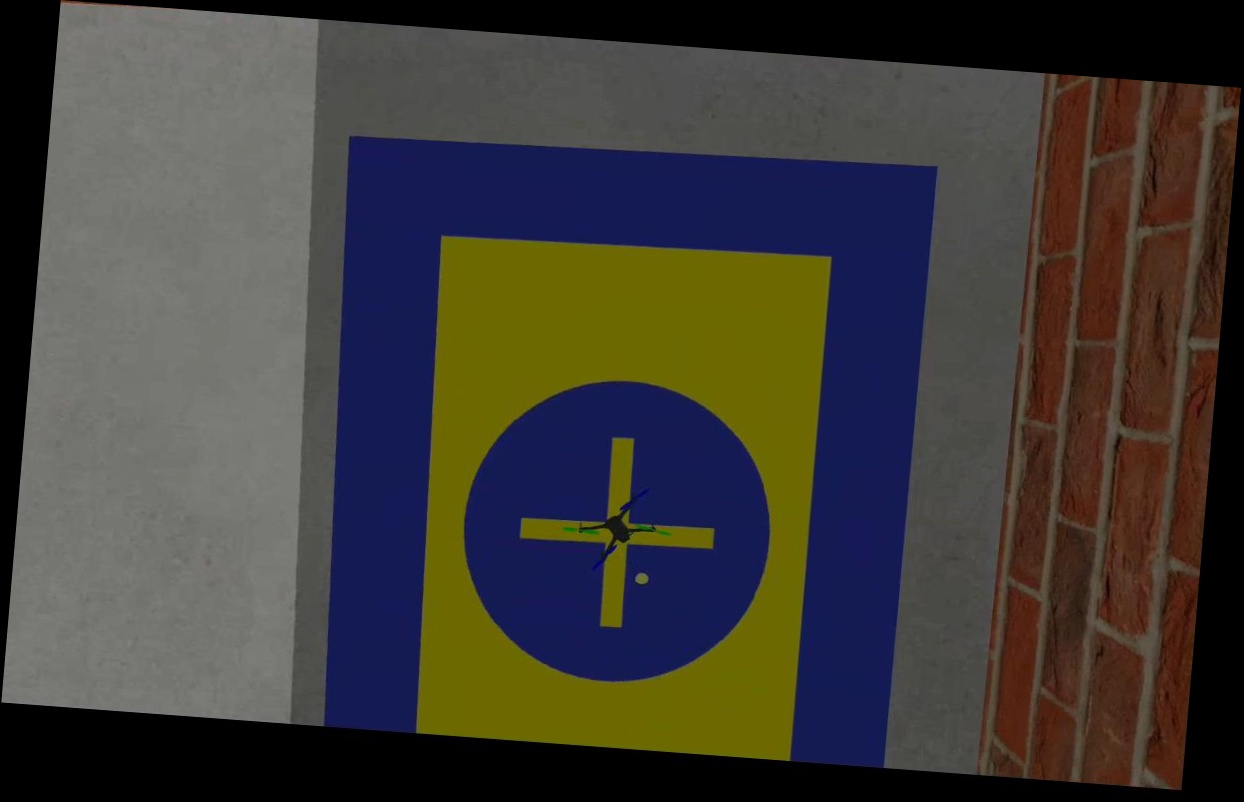large_base: (297, 117, 935, 772)
